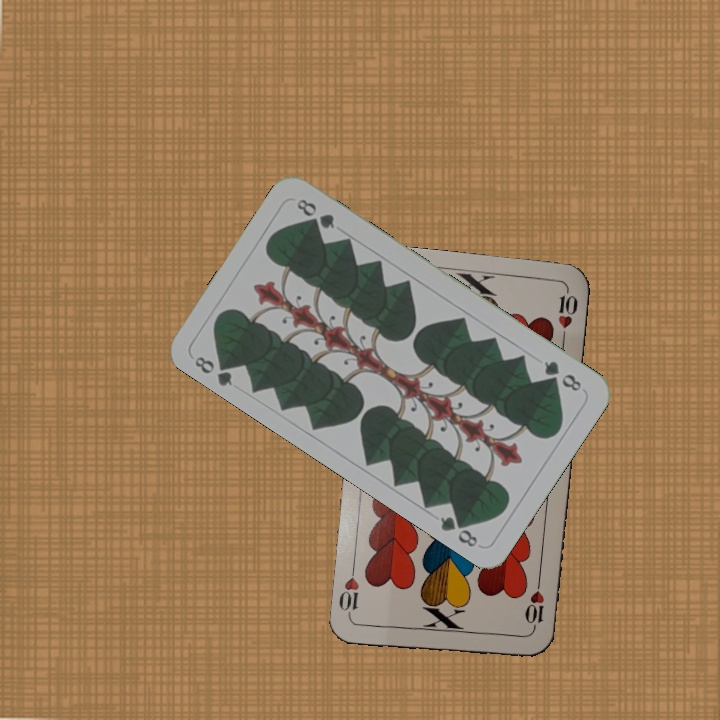G8: (190, 352, 237, 389), (539, 357, 585, 394)
H10: (521, 576, 547, 635)
